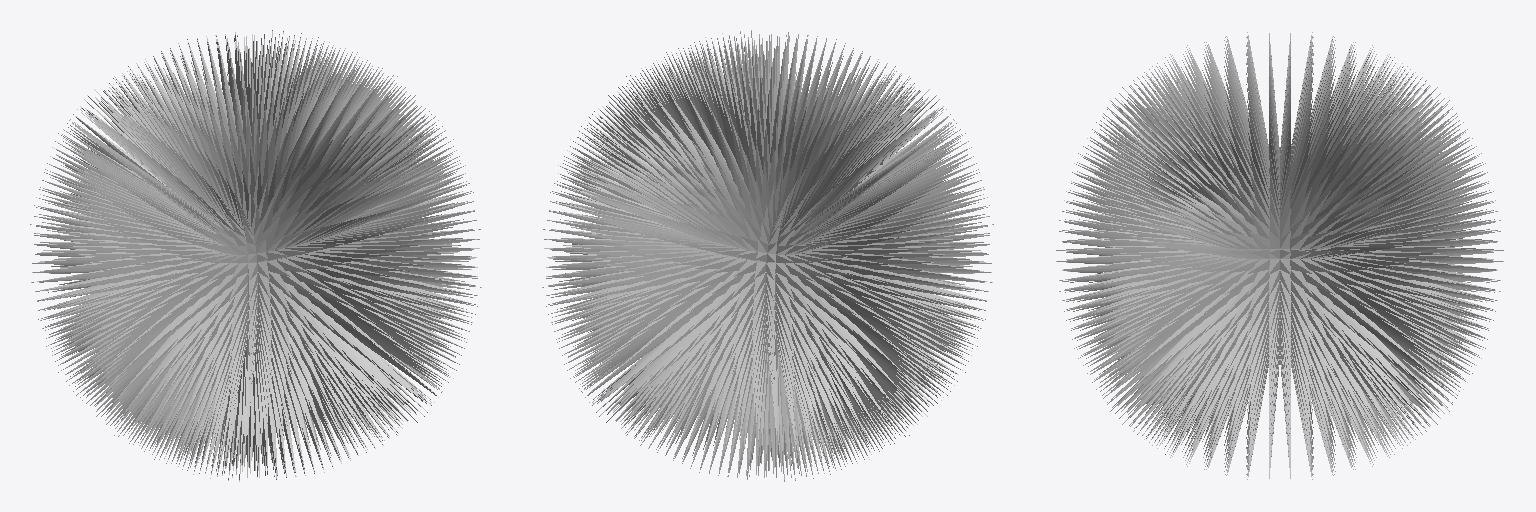
File: spiky_ball.obj
3 renders of one model, left to right at view 1: azimuth 30°, elevation 25°; view 2: azimuth 150°, elevation 25°; view 3: azimuth 270°, elevation 25°, orthographic.
Visible parts, largest first — view 1: Cube; view 2: Cube; view 3: Cube.
Part boxes in pixels (x1,y1,x2,y2): Cube: (30, 30, 481, 481); Cube: (542, 30, 993, 481); Cube: (1056, 32, 1503, 479).
Size of the model in its own units: 1.5 by 1.5 by 1.5.